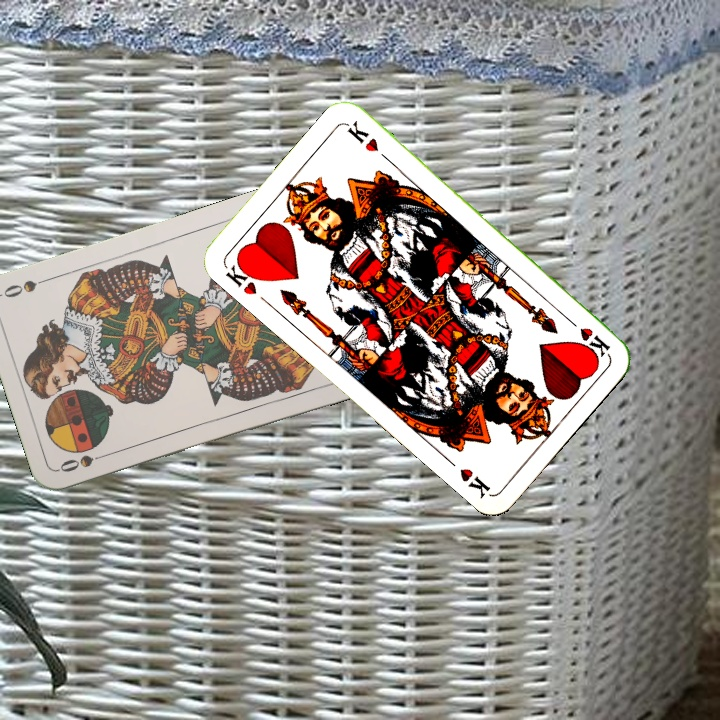HK: (562, 313, 613, 360), (221, 255, 265, 298)
SO: (55, 448, 114, 475)
